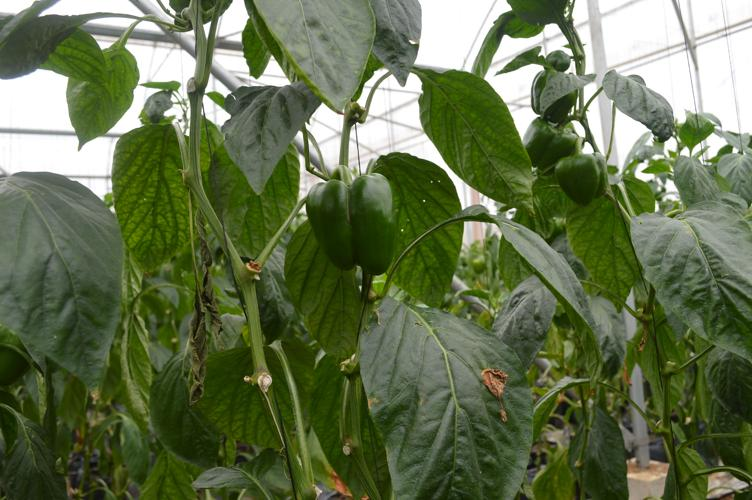BellPepper: (311, 162, 409, 280), (521, 53, 584, 120), (522, 101, 579, 163), (555, 147, 606, 213)
